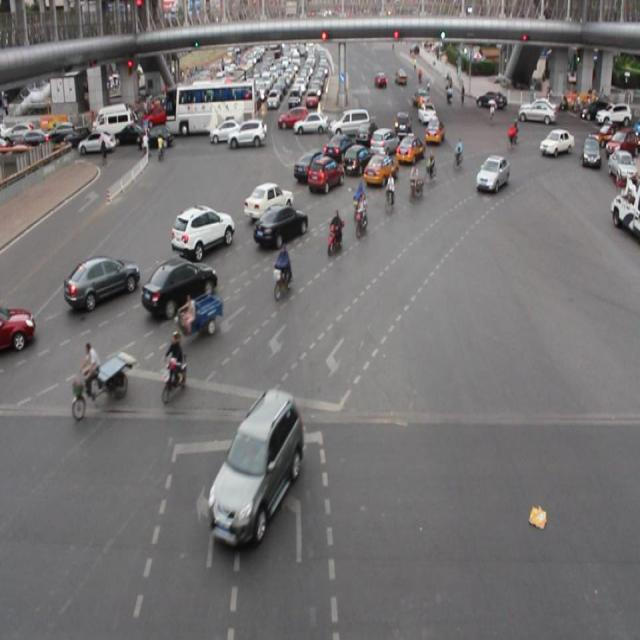car: (208, 388, 300, 536), (141, 260, 218, 315), (63, 256, 141, 306), (171, 202, 235, 254), (252, 204, 308, 248), (244, 180, 293, 221), (1, 304, 35, 354), (306, 154, 344, 193), (475, 153, 510, 193), (363, 152, 398, 190), (538, 127, 573, 156), (294, 149, 325, 180), (324, 132, 354, 164), (368, 126, 398, 158), (342, 143, 368, 175), (394, 135, 422, 164)
